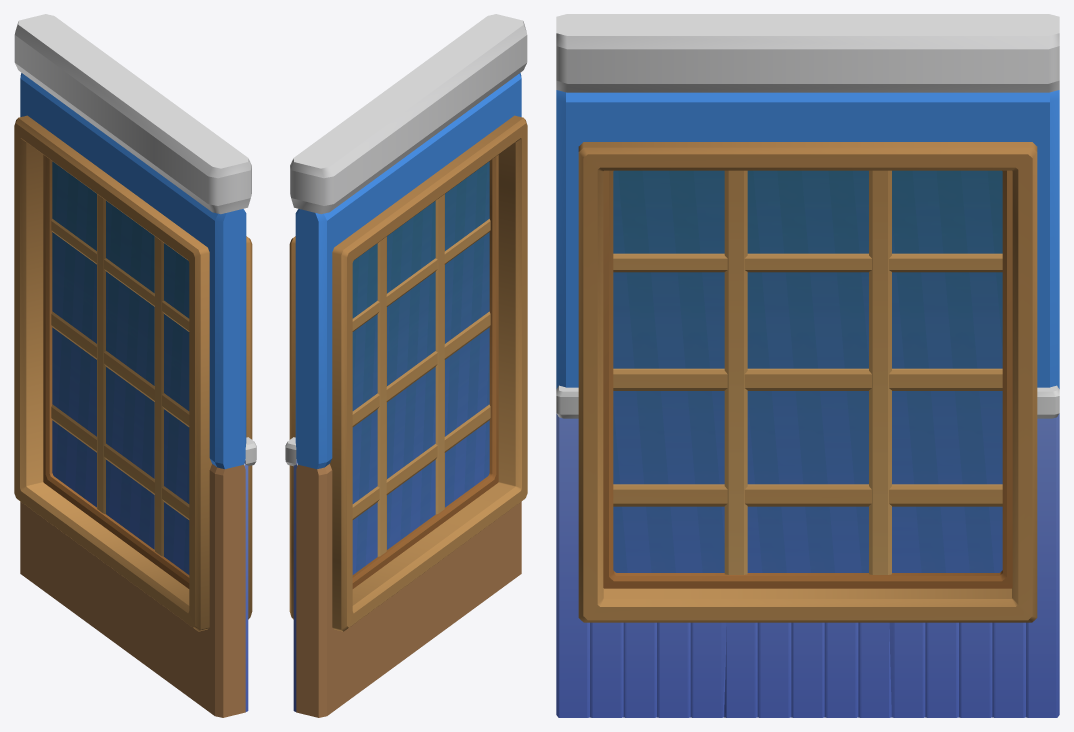
Rendered from Wall_D_14.glb.
3 views of the same model, side by side, from view 1: azimuth 30°, elevation 25°; view 2: azimuth 150°, elevation 25°; view 3: azimuth 270°, elevation 25° (orthographic). The views are drawn at different scales.
Parts seen in each view (by area): view 1: Wall_D_14; view 2: Wall_D_14; view 3: Wall_D_14.
Part boxes in pixels (<box>): Wall_D_14: <box>14,14,256,717</box>; Wall_D_14: <box>285,14,527,717</box>; Wall_D_14: <box>556,14,1059,717</box>.
Size of the model in its own units: 0.3277 by 3 by 2.
2 materials, 2 textured.
